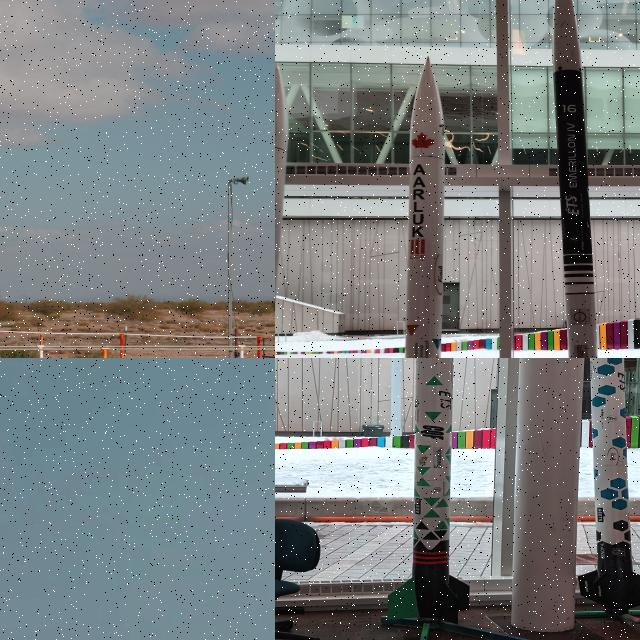Rocket: (388, 358, 470, 625), (577, 358, 640, 614), (553, 0, 598, 358), (405, 55, 445, 358)
